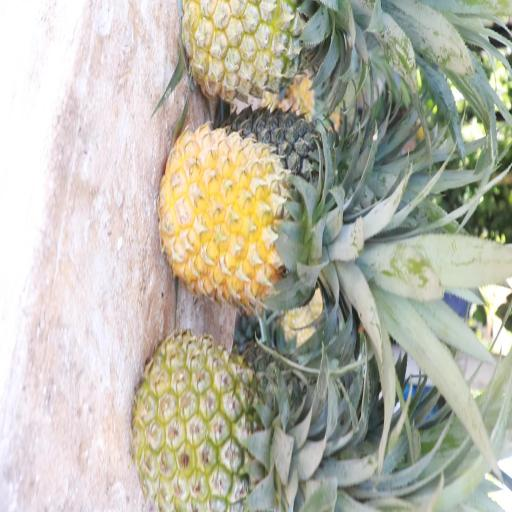------------------------------: (136, 336, 300, 512), (184, 0, 337, 112)
Pineapple - v8 v1: (161, 123, 344, 296)
